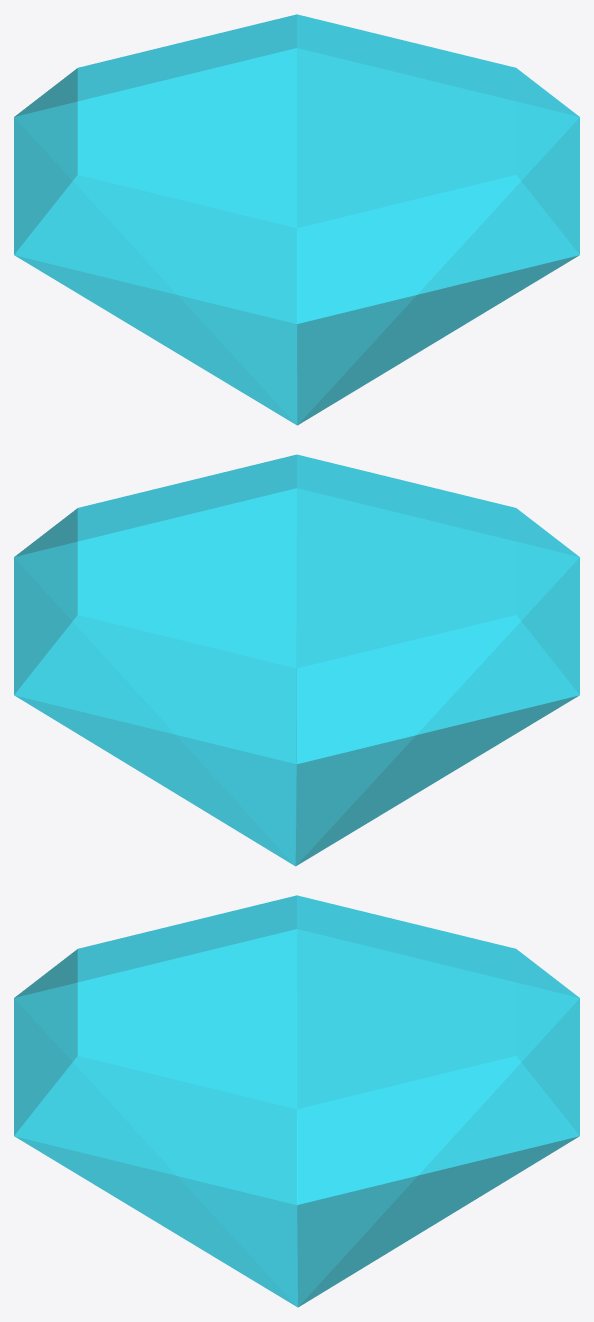
Rendered from diamond.glb.
3 renders of one model, top to bottom at view 1: azimuth 30°, elevation 25°; view 2: azimuth 150°, elevation 25°; view 3: azimuth 270°, elevation 25°, orthographic.
Parts seen in each view (by area): view 1: node-0; view 2: node-0; view 3: node-0.
Boxes of the visible parts, x1,y1,x2,y2 form: node-0: (14,14,579,425); node-0: (14,454,579,866); node-0: (14,895,579,1307).
Bounding box in the file's own units: 35.71 × 18.38 × 30.92.
